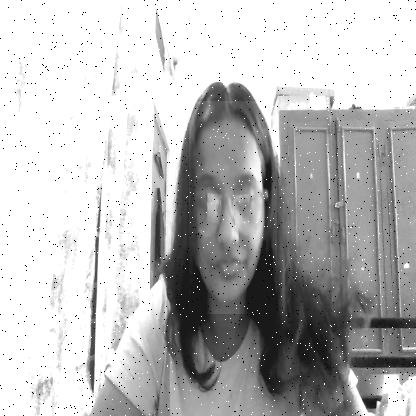Normal: (189, 101, 277, 314)
